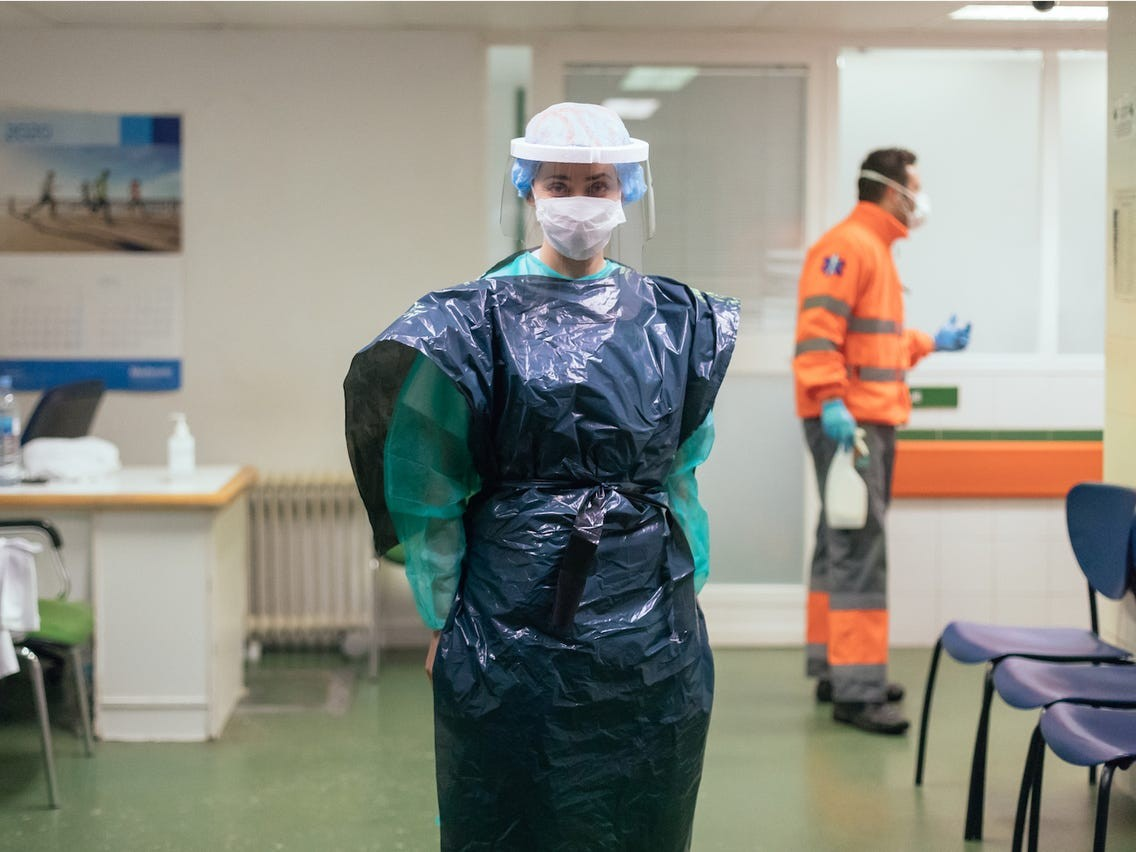Face_Shield: (502, 136, 653, 277)
Gloves: (820, 397, 866, 453)
with_mask: (537, 173, 623, 260)
